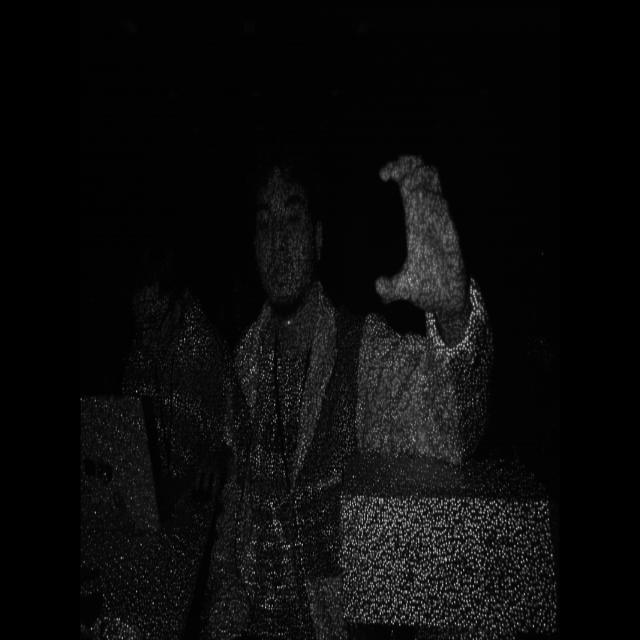C: (368, 141, 494, 346)
